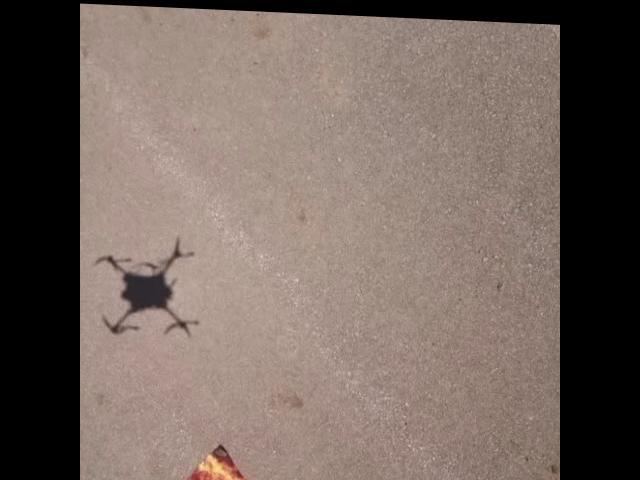fire-poster: (139, 438, 285, 480)
